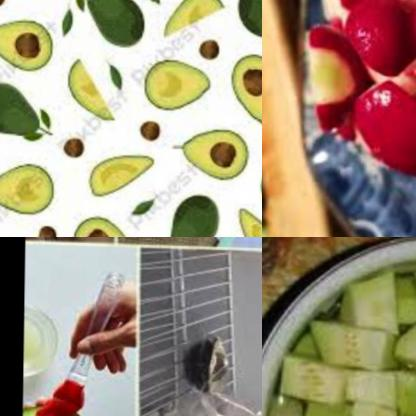avocado: (137, 44, 221, 126), (174, 115, 251, 182), (76, 142, 158, 204), (54, 62, 129, 129), (68, 0, 155, 56), (186, 332, 245, 400), (156, 188, 224, 237), (0, 155, 54, 214), (0, 73, 43, 147), (0, 13, 56, 68), (226, 43, 262, 126), (164, 0, 223, 47), (23, 390, 100, 416), (237, 0, 262, 50), (227, 205, 262, 237), (65, 225, 146, 237)
rediska: (304, 0, 416, 174)
vegetable marrow: (270, 257, 416, 416)
